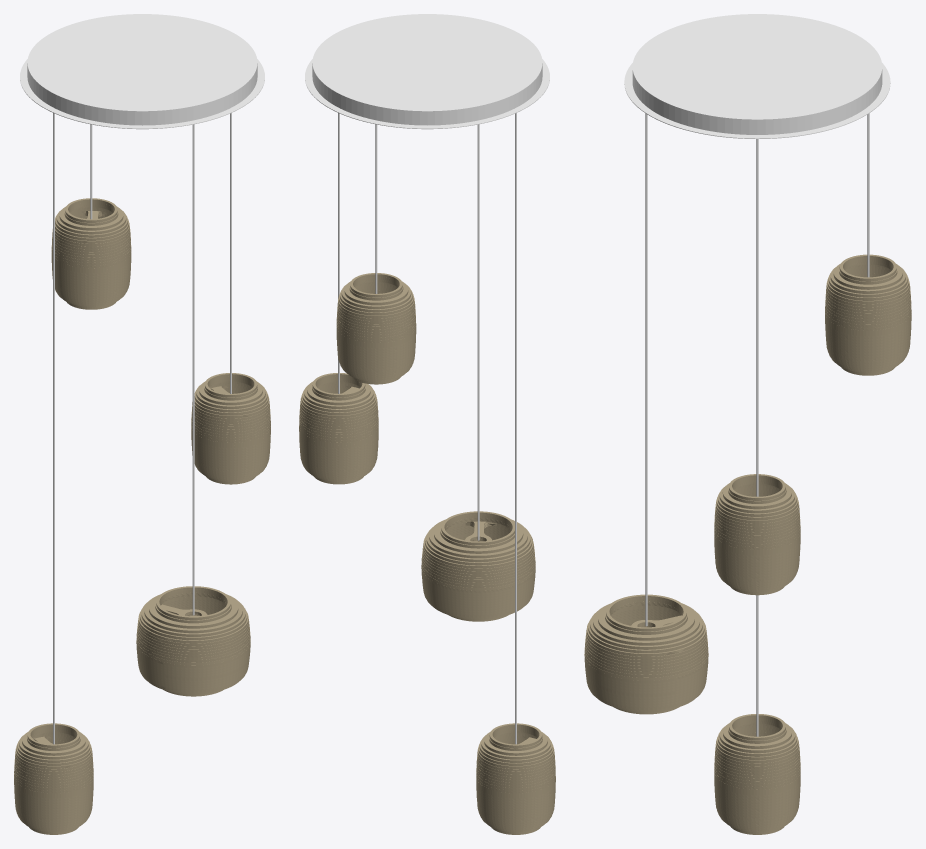
3 views of the same model, side by side, from view 1: azimuth 30°, elevation 25°; view 2: azimuth 150°, elevation 25°; view 3: azimuth 270°, elevation 25° (orthographic). The views are drawn at different scales.
Bounding box in the file's own units: 0.6953 × 2 × 0.7372.
